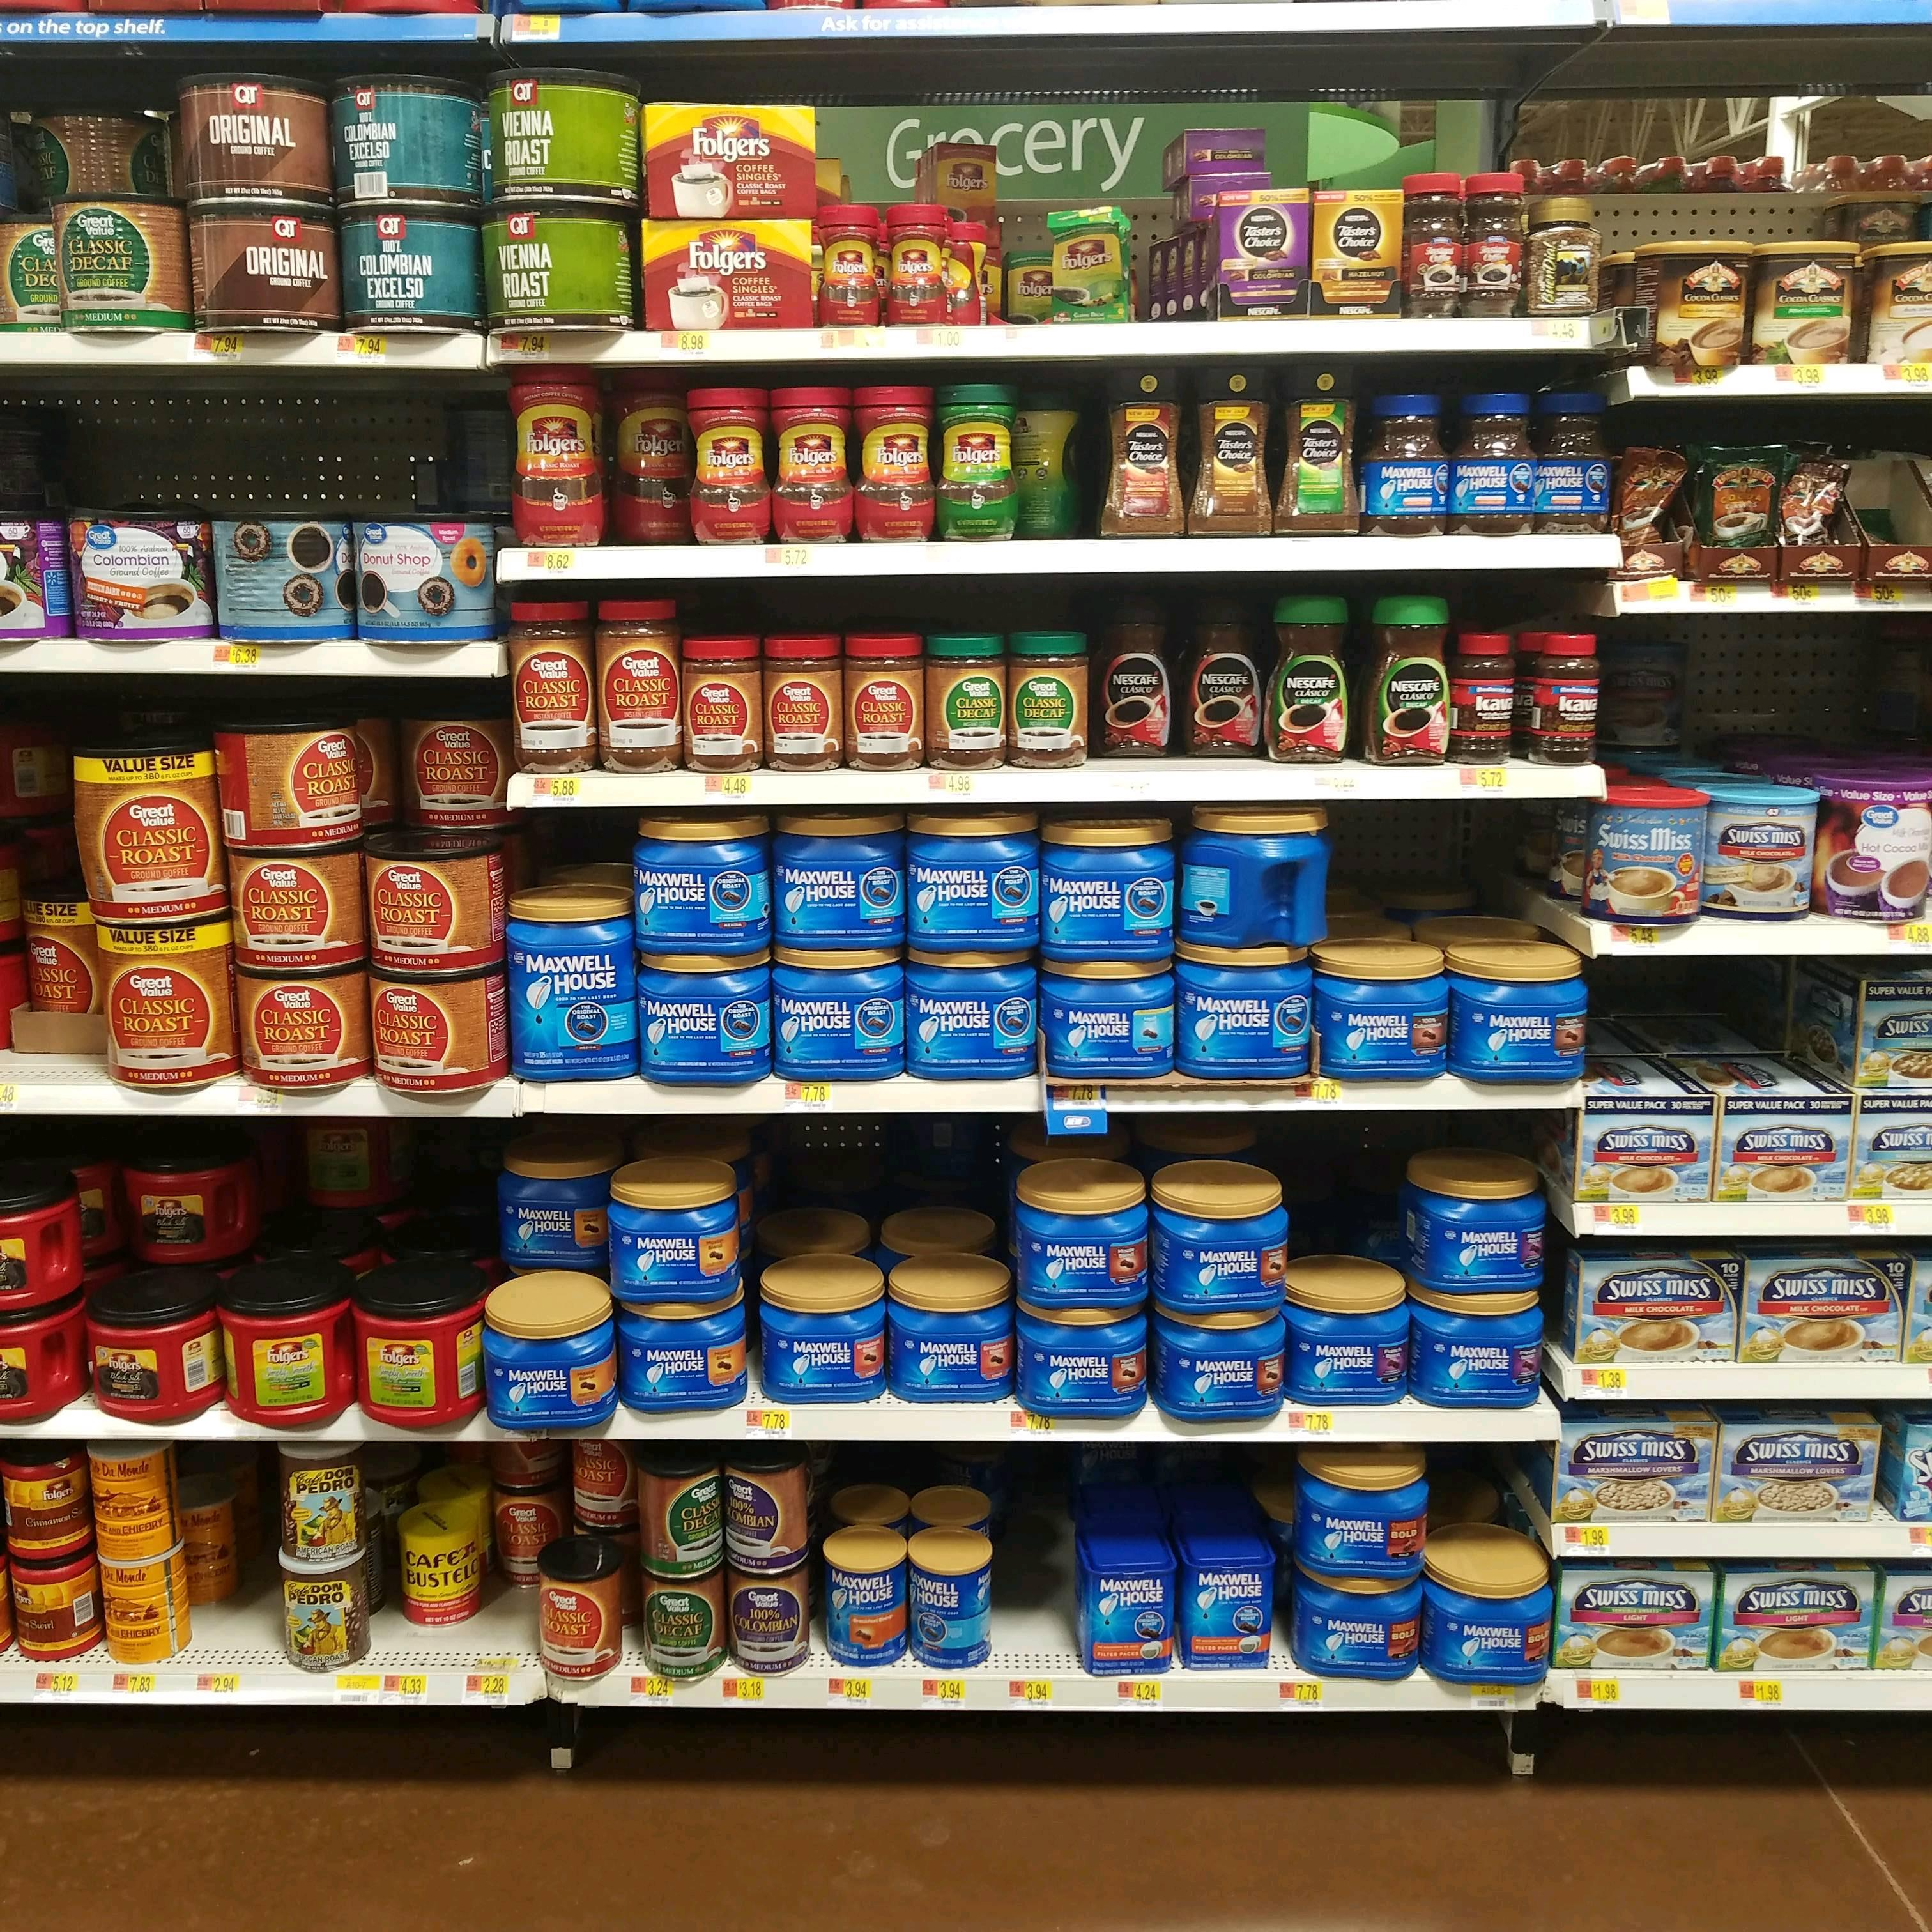misalignment: (1037, 200, 1139, 326), (1023, 393, 1092, 538), (1152, 119, 1281, 191), (913, 133, 996, 216)
